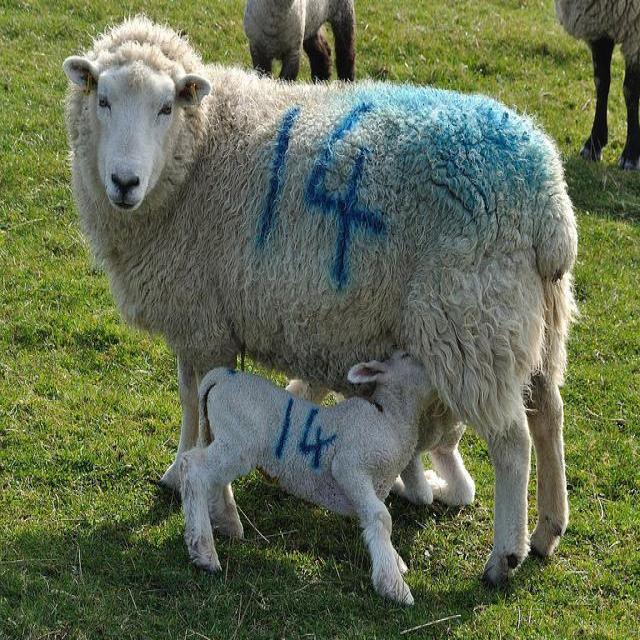Sheep: (60, 19, 581, 579), (184, 349, 443, 605), (554, 0, 639, 176), (243, 0, 357, 85), (402, 402, 491, 508)
